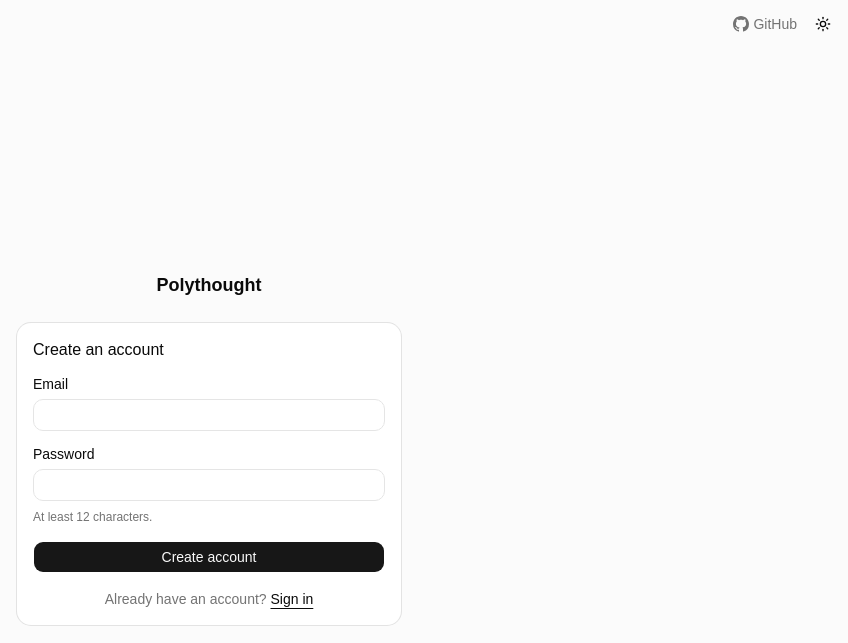
Test: verifying an address › waits for the mailed link instead of signing in, and sends it again
The width and height of the screenshot is (848, 643).
Type "alice@example.com" into the field labelled "Email" at [209, 415], box [33, 399, 385, 431]
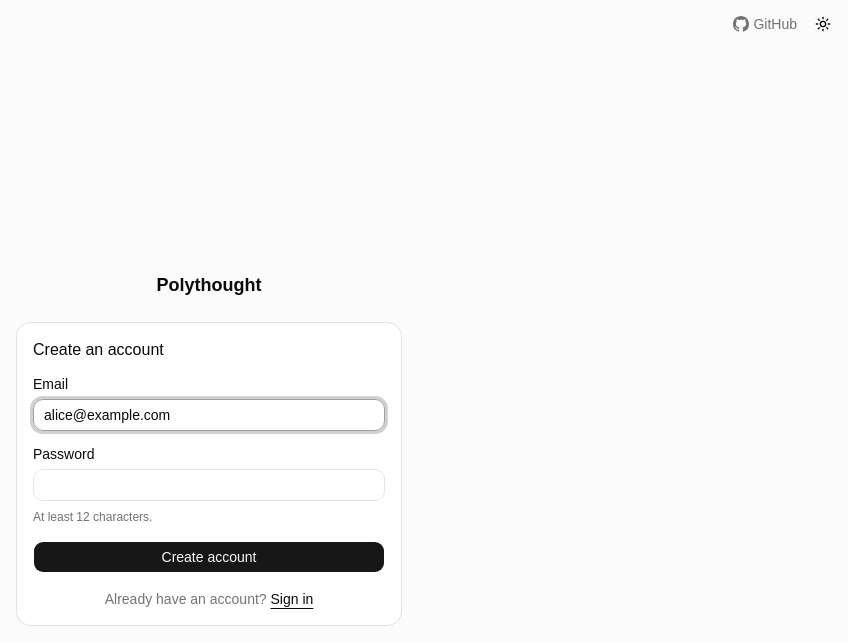
Type "a long enough password" into the password field labelled "Password" at [209, 485], box [33, 469, 385, 501]
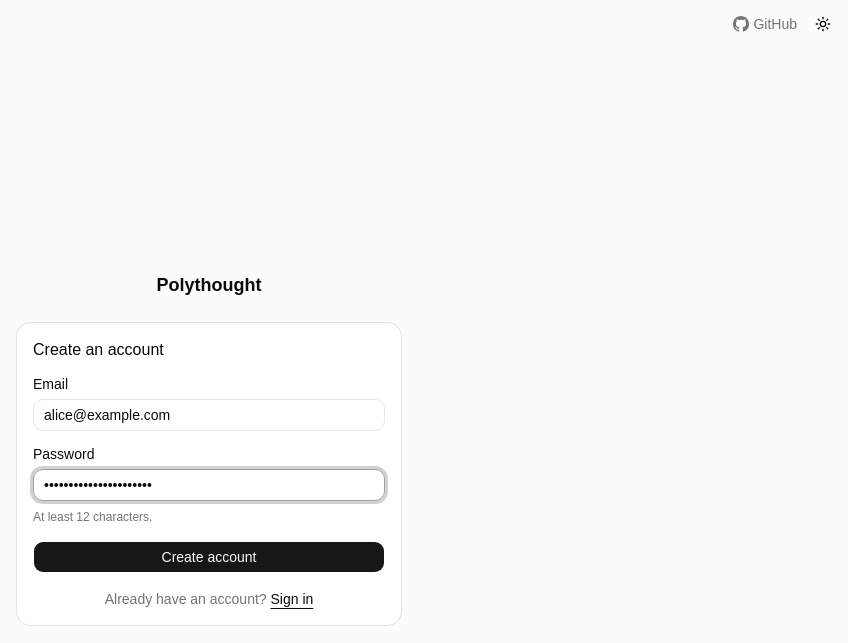
Click the button "Create account" at [209, 557], box [33, 541, 385, 573]
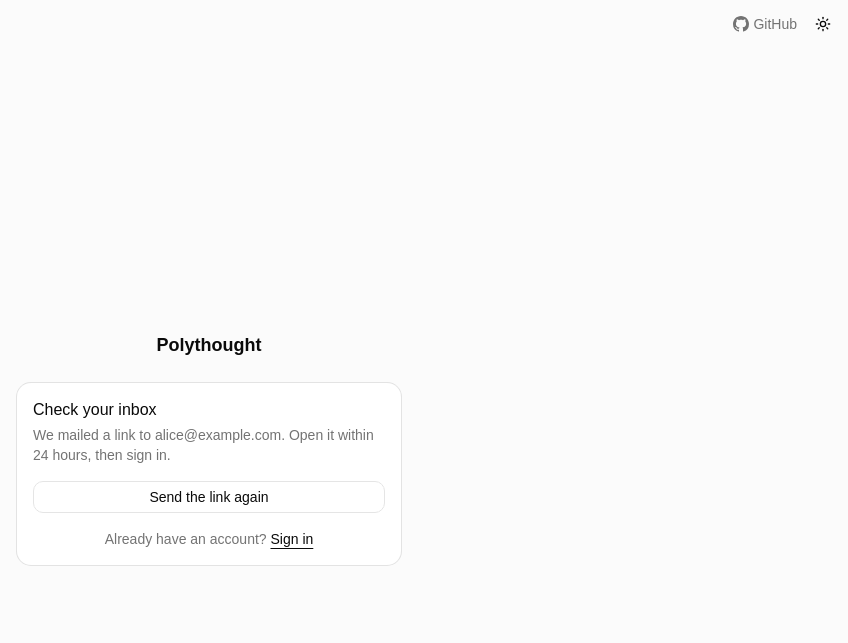
Result: the text "Check your inbox" is shown at [33, 401, 157, 418]
Result: the text "We mailed a link to alice@example.com" is shown at [33, 427, 374, 463]
Click the button "Send the link again" at [209, 497], box [33, 481, 385, 513]
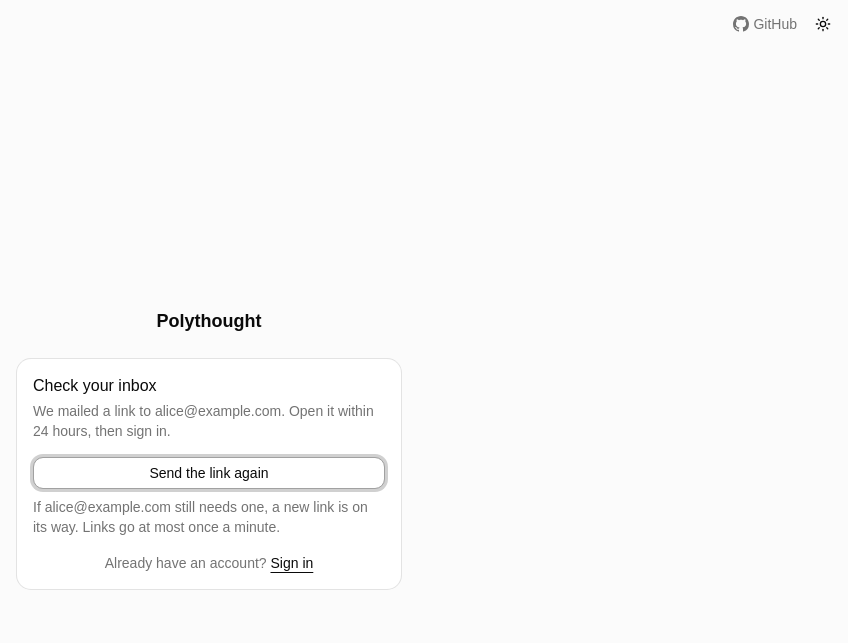
Result: the text "a new link is on its way" is shown at [33, 499, 368, 535]
